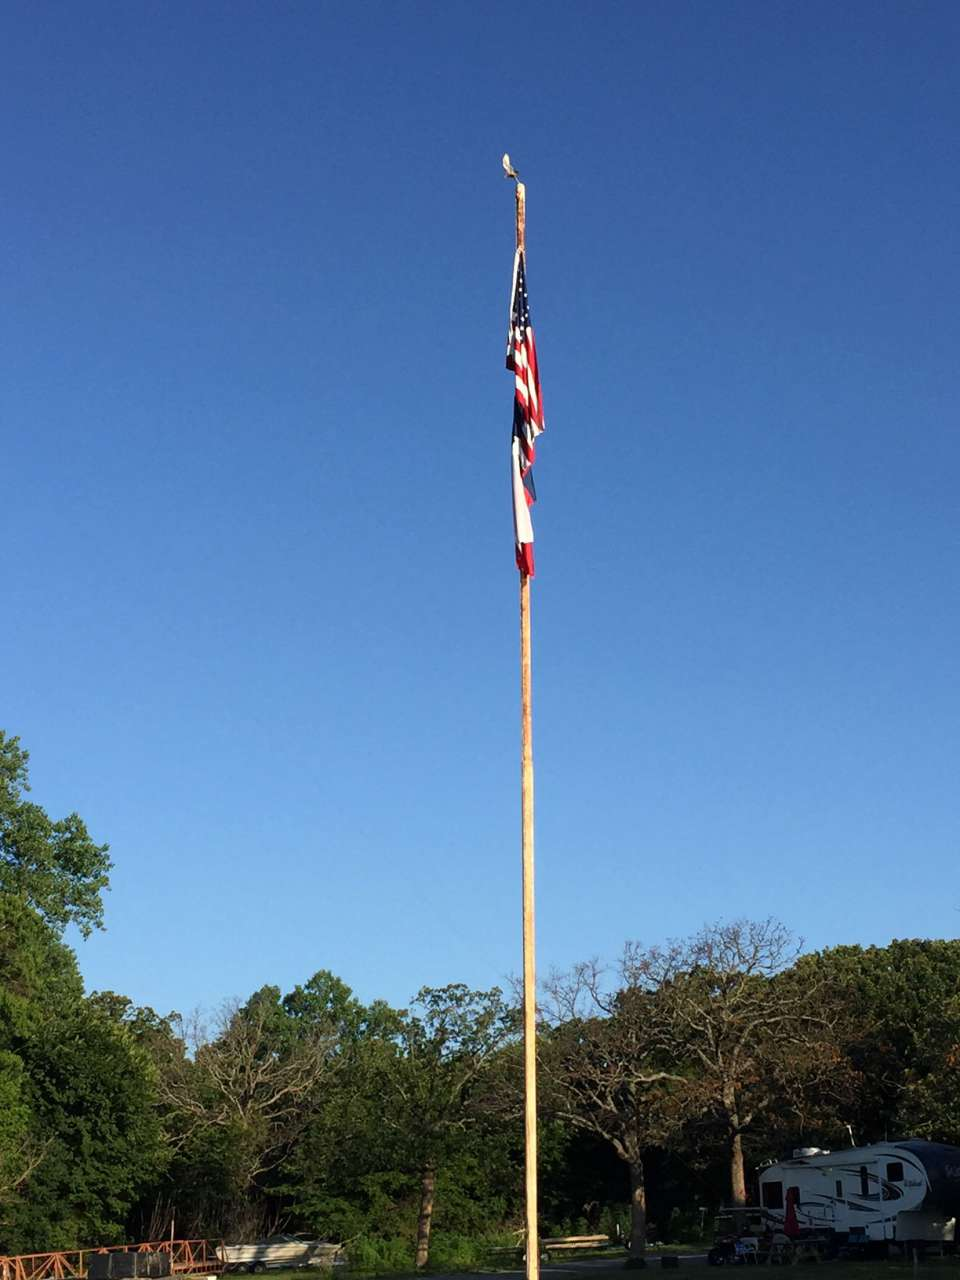Flag: (494, 235, 550, 585)
